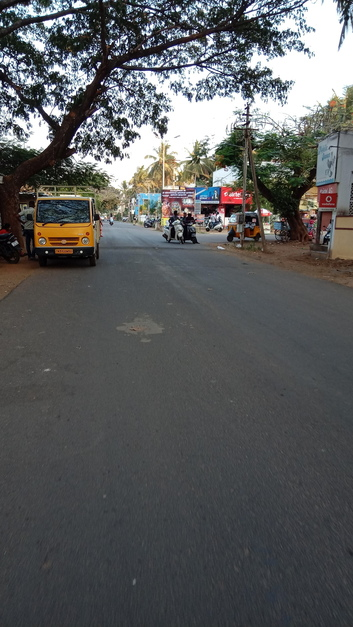bump: (98, 244, 217, 253)
